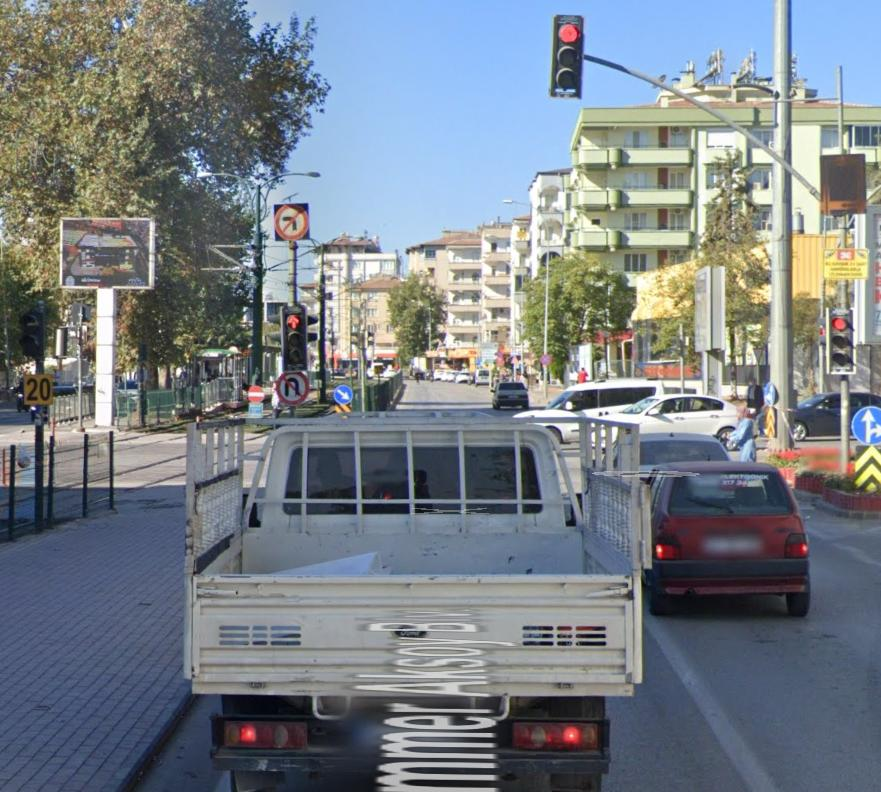leftturnsareforbidden: (277, 208, 305, 240)
redlight: (551, 15, 579, 95), (831, 306, 854, 380), (282, 307, 309, 370)
